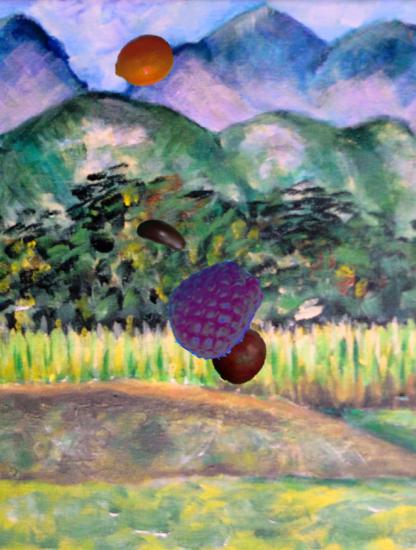Eggplant: (135, 208, 191, 264)
Pomegranate: (209, 325, 267, 383)
Raspberry: (163, 258, 263, 358)
Tangelo: (113, 31, 175, 93)
